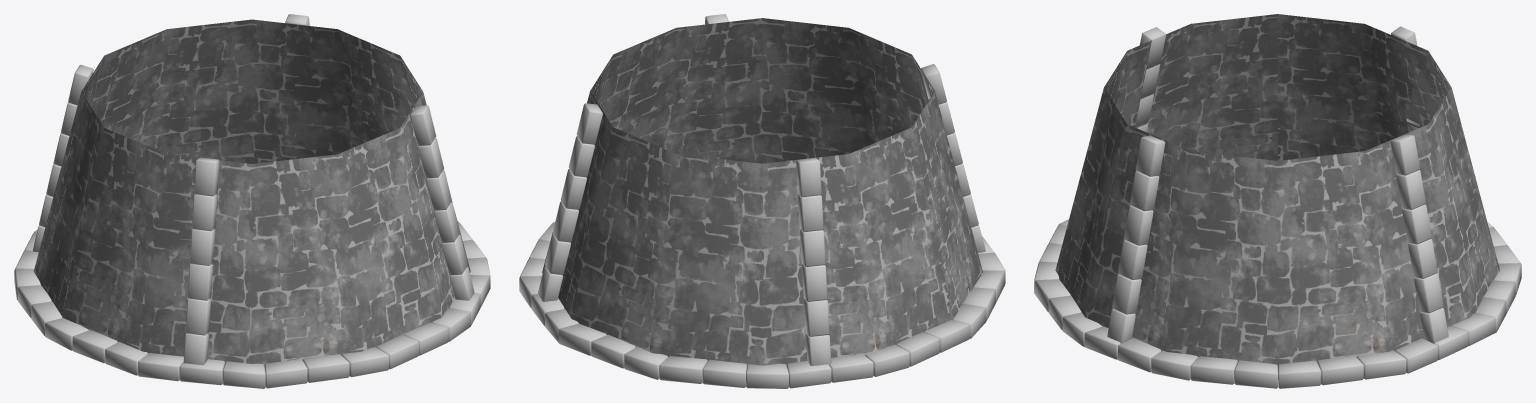
Rendered from Tower_Wall_End_02.fbx.
The picture shows the model from 3 angles, left to right: view 1: azimuth 30°, elevation 25°; view 2: azimuth 150°, elevation 25°; view 3: azimuth 270°, elevation 25°; orthographic projection.
Visible parts, largest first — view 1: Tower_Wall_End.003; view 2: Tower_Wall_End.003; view 3: Tower_Wall_End.003.
Boxes of the visible parts, x1,y1,x2,y2 form: Tower_Wall_End.003: (14,14,490,388); Tower_Wall_End.003: (519,14,1005,388); Tower_Wall_End.003: (1034,14,1521,388).
Size of the model in its own units: 11.21 by 5.15 by 11.22.
